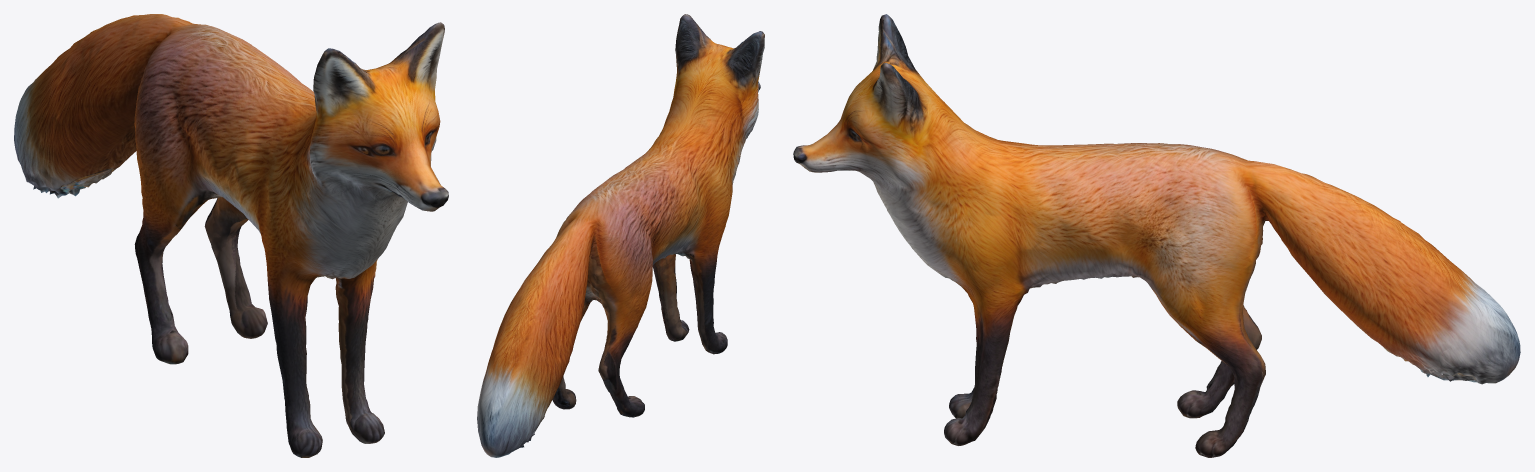
The model's file is fox_realistic_wild_animal.glb.
3 views of the same model, side by side, from view 1: azimuth 30°, elevation 25°; view 2: azimuth 150°, elevation 25°; view 3: azimuth 270°, elevation 25° (orthographic). The views are drawn at different scales.
Visible parts, largest first — view 1: Mesh_0_Material_0_0; view 2: Mesh_0_Material_0_0; view 3: Mesh_0_Material_0_0.
Part boxes in pixels (x1,y1,x2,y2): Mesh_0_Material_0_0: (14, 14, 448, 457); Mesh_0_Material_0_0: (477, 14, 764, 457); Mesh_0_Material_0_0: (793, 14, 1520, 457).
Size of the model in its own units: 0.2169 by 0.7233 by 1.2.
1 material, 1 textured.
